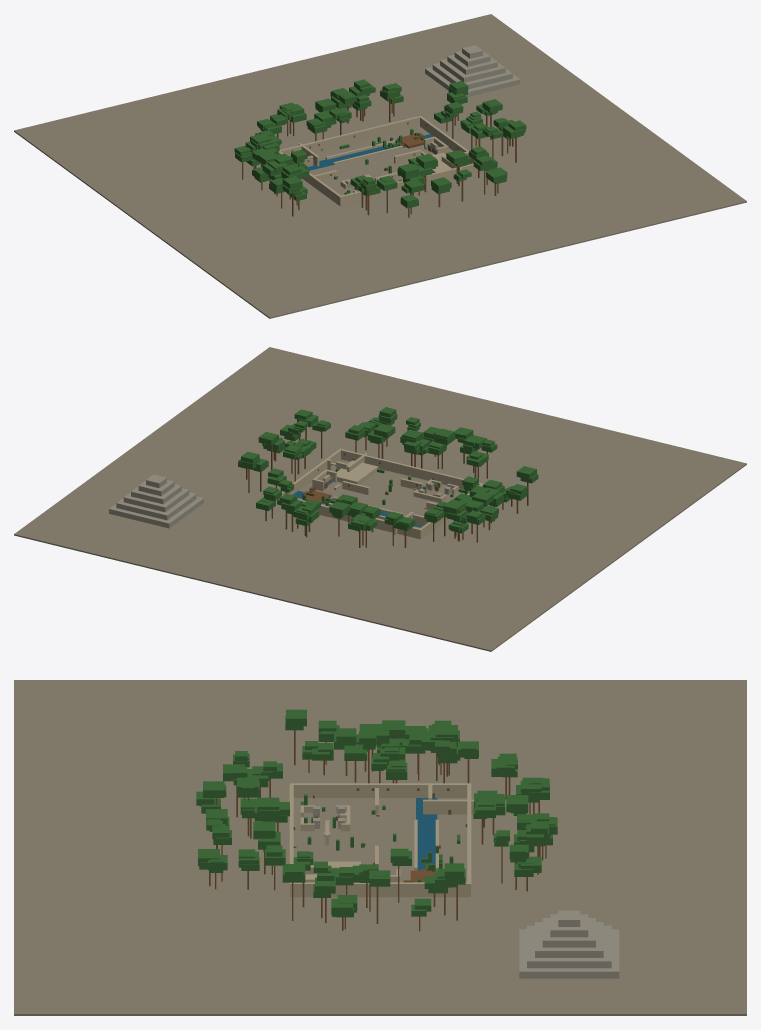
The model's file is de_aq_aztec.glb.
The picture shows the model from 3 angles, top to bottom: view 1: azimuth 30°, elevation 25°; view 2: azimuth 150°, elevation 25°; view 3: azimuth 270°, elevation 25°; orthographic projection. The views are drawn at different scales.
Visible parts, largest first — view 1: skyline, de_aq_aztec; view 2: skyline, de_aq_aztec; view 3: skyline, de_aq_aztec.
Boxes of the visible parts, x1,y1,x2,y2 form: skyline: (14,14,746,318); de_aq_aztec: (278,115,483,206); skyline: (14,347,746,651); de_aq_aztec: (277,448,483,539); skyline: (14,680,746,1015); de_aq_aztec: (289,783,473,897).
Size of the model in its own units: 14224 by 1134 by 13200.
